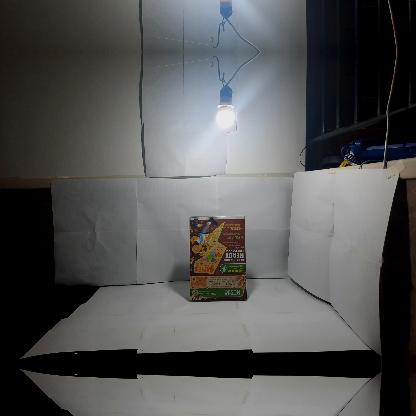Koko-Krunch: (190, 215, 247, 299)
